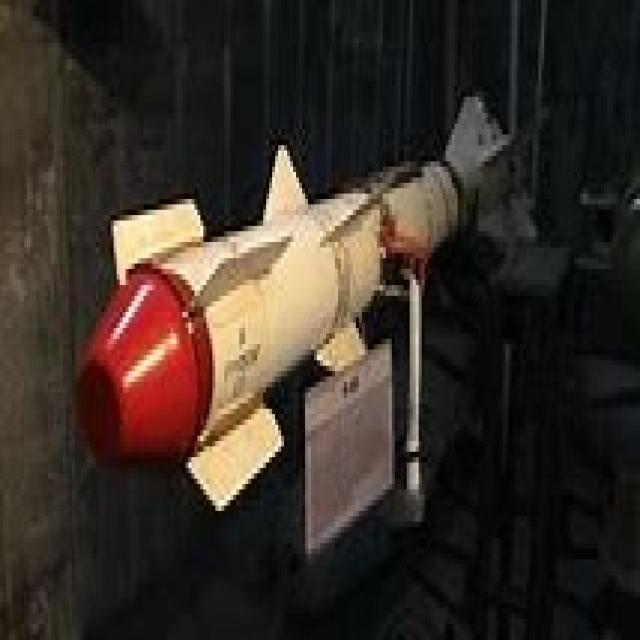missile: (81, 98, 528, 505)
